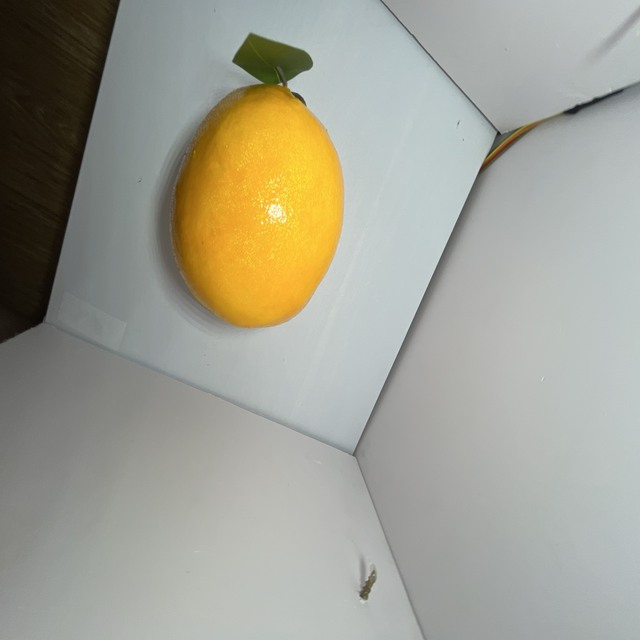Cam vang: (161, 80, 351, 333)
